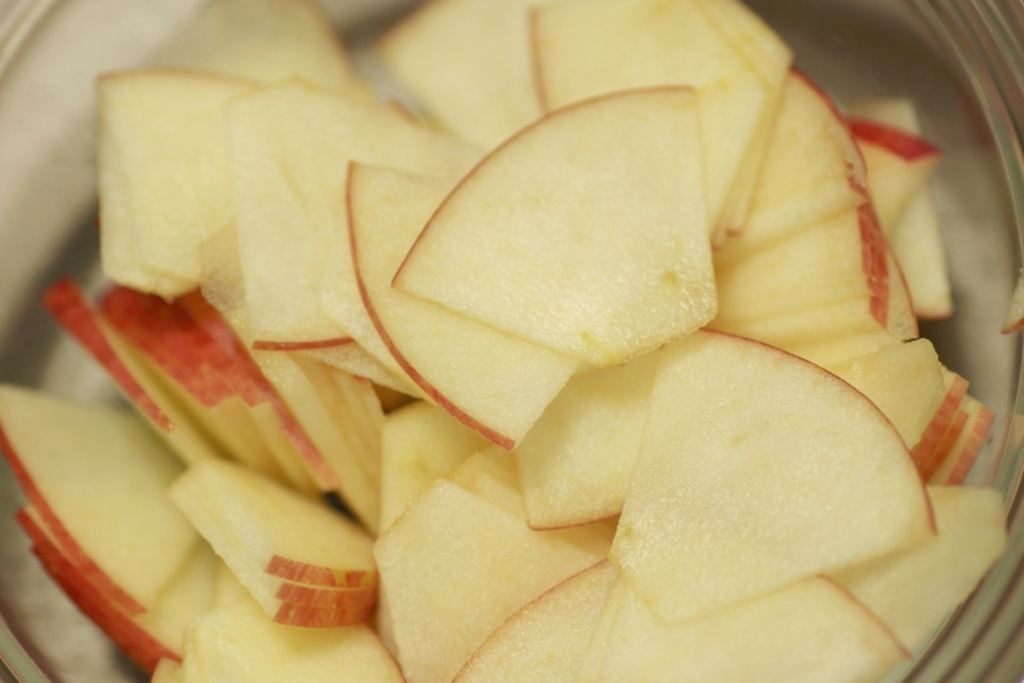Apple: (0, 0, 1022, 681), (387, 79, 720, 367)
